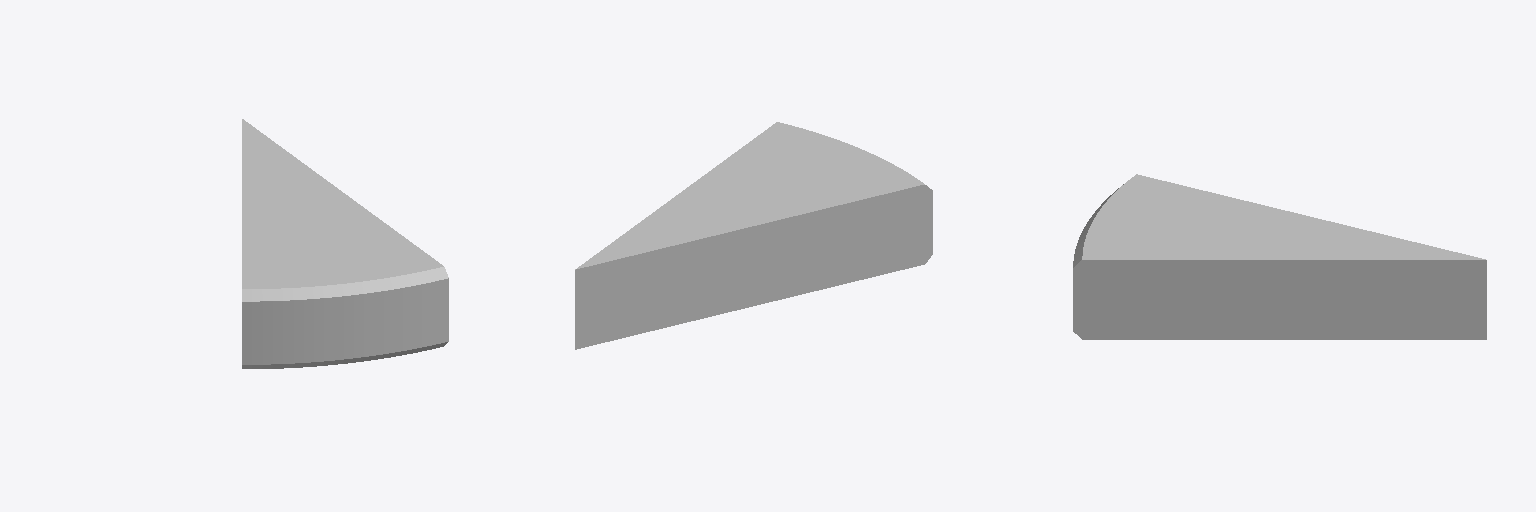
The picture shows the model from 3 angles: view 1: azimuth 30°, elevation 25°; view 2: azimuth 150°, elevation 25°; view 3: azimuth 270°, elevation 25°; orthographic projection.
Visible parts, largest first — view 1: Segment_1Ground; view 2: Segment_1Ground; view 3: Segment_1Ground.
Boxes of the visible parts, x1=… form: Segment_1Ground: x1=242, y1=119, x2=448, y2=368; Segment_1Ground: x1=575, y1=122, x2=932, y2=349; Segment_1Ground: x1=1073, y1=174, x2=1486, y2=339.
Bounding box in the file's own units: 0.5 × 0.2136 × 1.